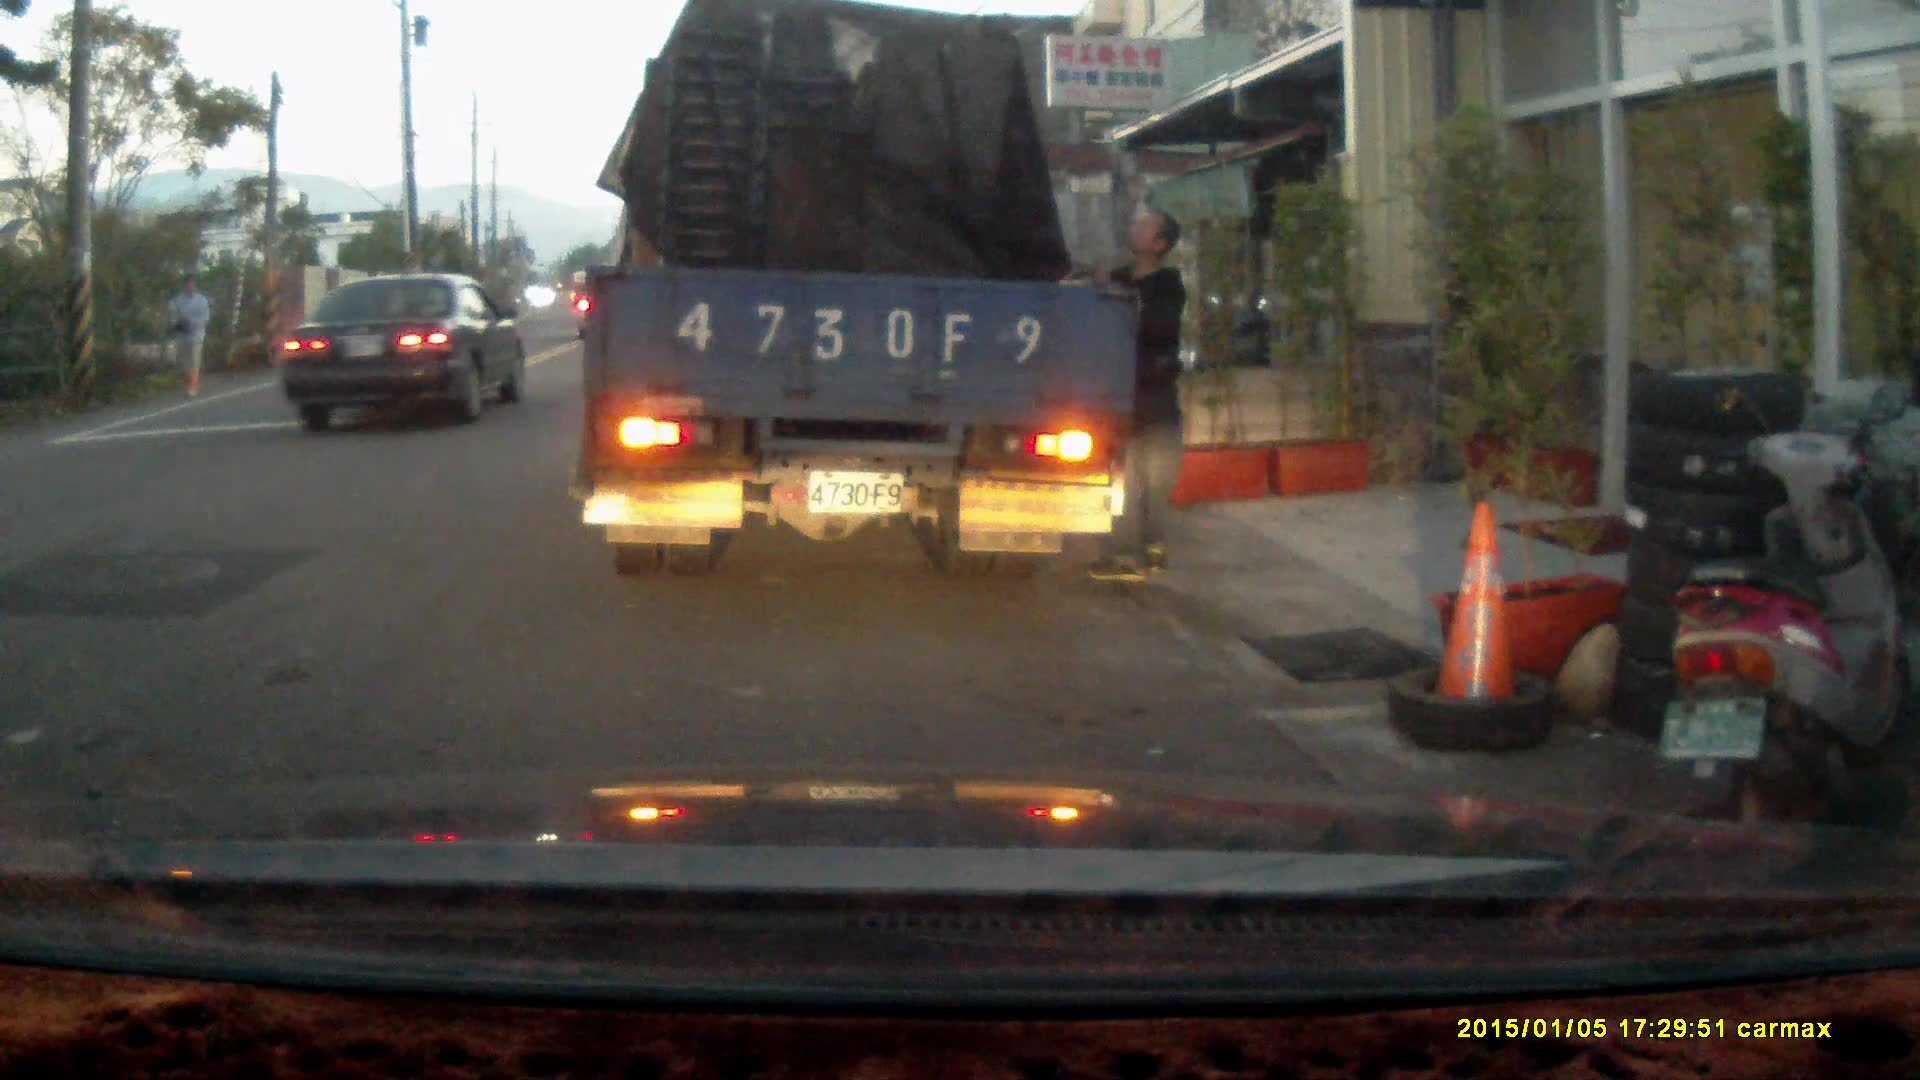pedestrian: (1069, 205, 1188, 581), (164, 272, 210, 401)
vehicle: (583, 23, 1134, 572), (278, 270, 528, 435)
